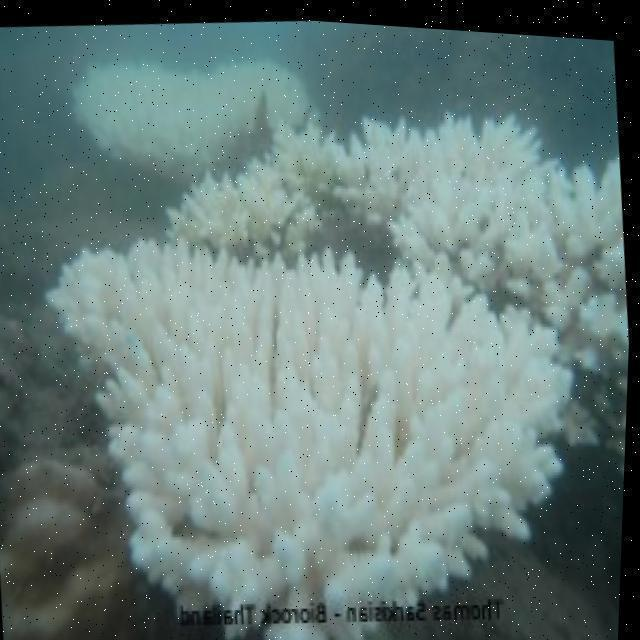Bleached Coral: (93, 100, 638, 640), (47, 3, 393, 190)
